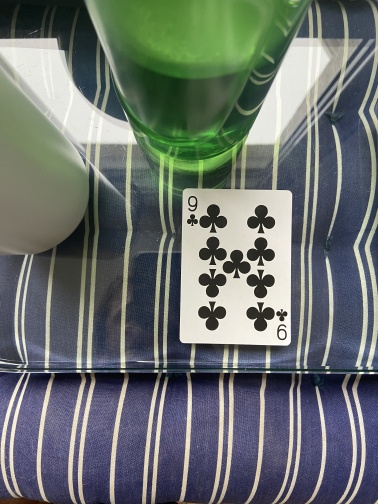nine: (178, 187, 294, 348)
